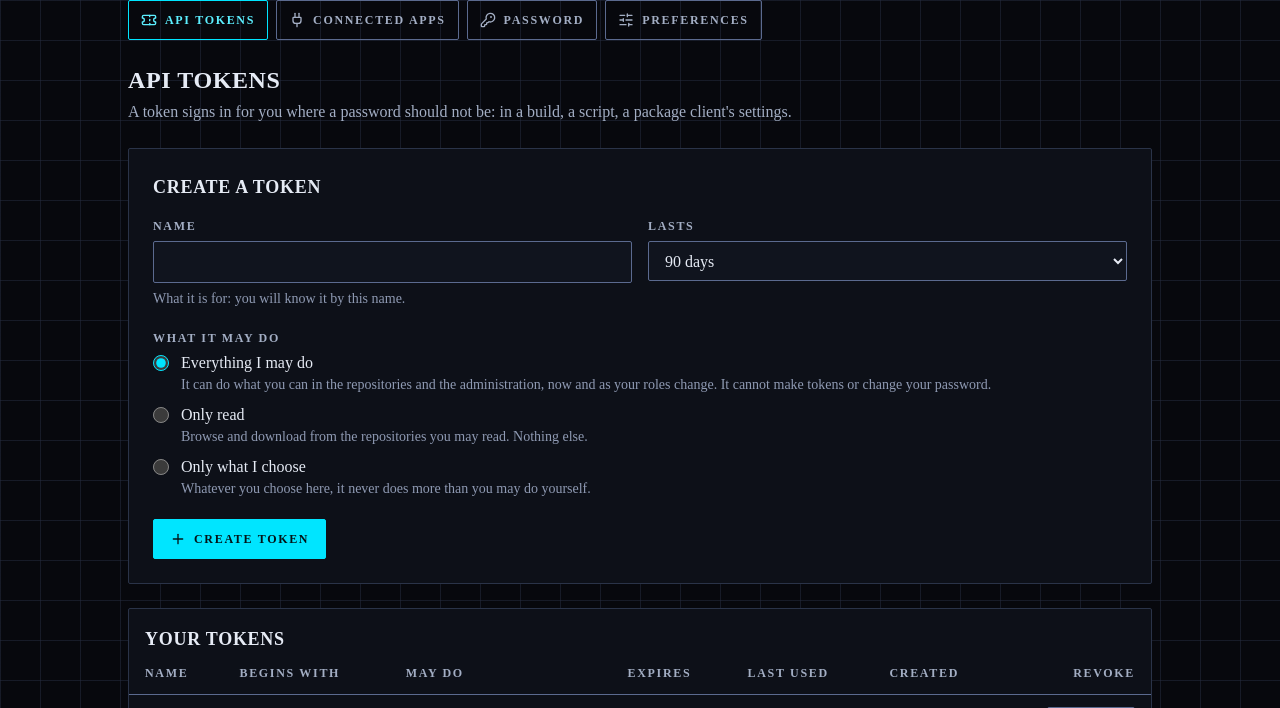
Test: one's API tokens (A4) › a new one lasts ninety days and does what its owner may, unless told otherwise
Step 1. Type "  ci build " into the field labelled "Name" → (392, 262), box left=153, top=241, right=632, bottom=283
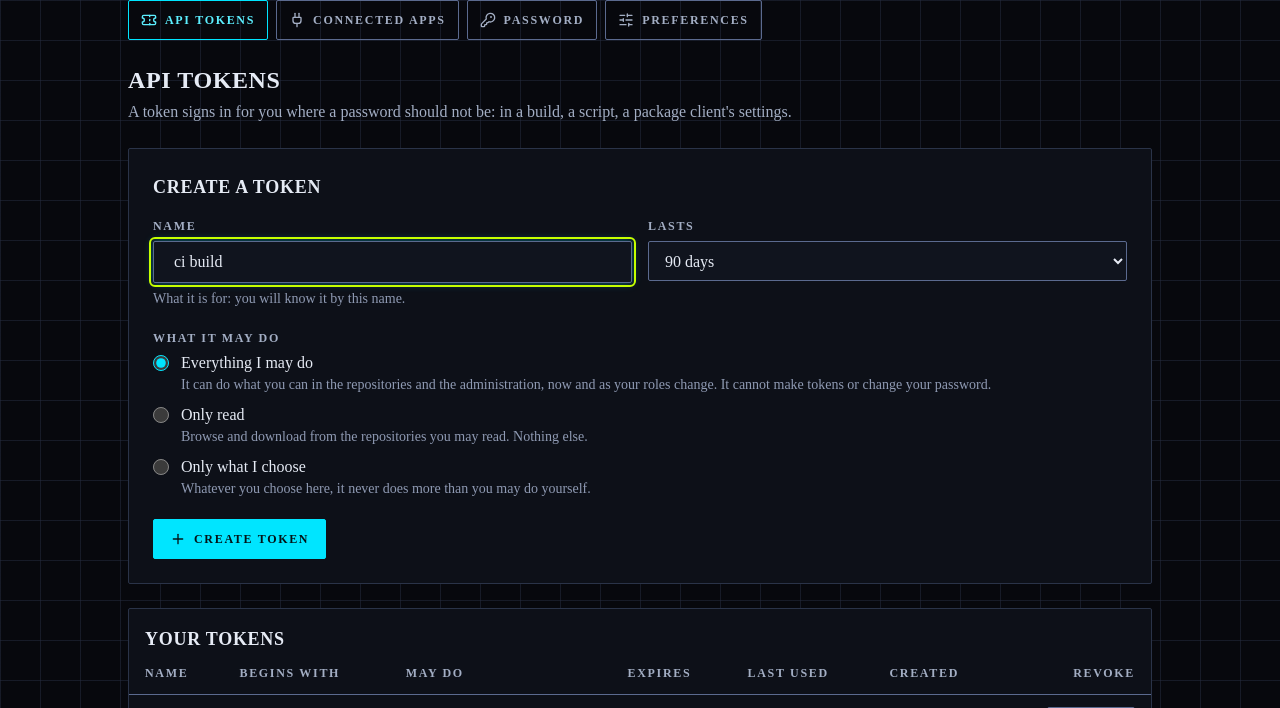
Step 2. Click the button "Create token" → (240, 539), box left=153, top=519, right=326, bottom=559
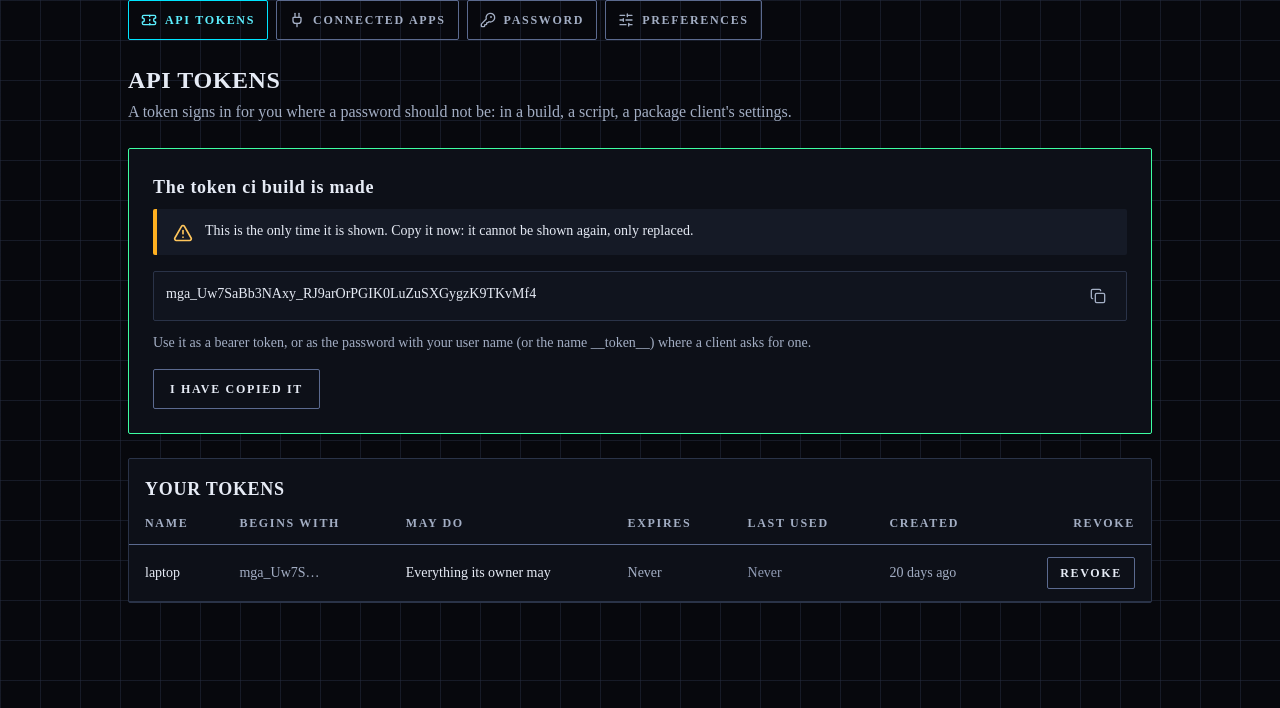
Check: the element "The token ci build is made" is shown, box left=128, top=148, right=1152, bottom=434
